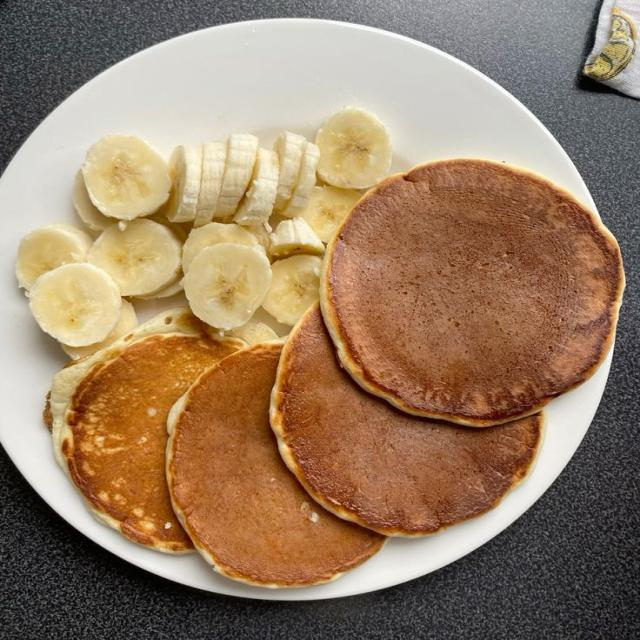banana slice: (29, 263, 121, 346), (183, 243, 270, 330), (83, 135, 170, 221), (89, 219, 181, 296), (316, 107, 391, 188), (16, 224, 92, 290), (61, 299, 137, 359), (262, 255, 322, 325), (215, 133, 257, 217), (300, 186, 360, 243), (234, 148, 277, 225), (281, 142, 319, 217), (164, 145, 201, 222), (72, 170, 115, 232), (273, 132, 305, 211), (196, 142, 226, 226), (228, 321, 277, 344)
pancake: (321, 159, 624, 426), (271, 306, 543, 536), (167, 343, 385, 587), (51, 308, 244, 552)
